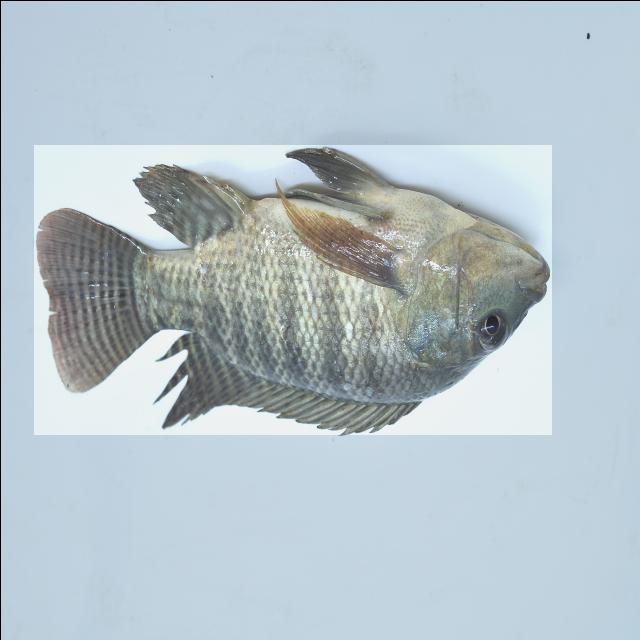Healthy Fish: (32, 144, 550, 434)
